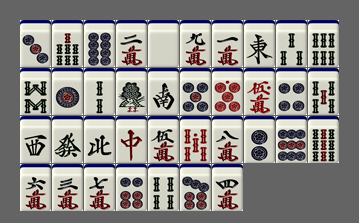0m: (244, 68, 275, 115)
0p: (212, 68, 243, 115)
0s: (180, 116, 211, 163)
1m: (212, 20, 243, 67)
1p: (52, 68, 83, 115)
1s: (116, 68, 147, 115)
1z: (244, 20, 275, 67)
2m: (116, 20, 147, 67)
2p: (244, 116, 275, 163)
2s: (84, 68, 115, 115)
2z: (148, 68, 179, 115)
3m: (52, 164, 83, 211)
3p: (20, 20, 51, 67)
3s: (276, 20, 307, 67)
3z: (20, 116, 51, 163)
4m: (212, 164, 243, 211)
4p: (276, 68, 307, 115)
4s: (148, 164, 179, 211)
4z: (84, 116, 115, 163)
5m: (148, 116, 179, 163)
5p: (180, 68, 211, 115)
5s: (308, 68, 339, 115)
5z: (148, 20, 179, 67)
6m: (20, 164, 51, 211)
6p: (116, 164, 147, 211)
6s: (308, 20, 339, 67)
6z: (52, 116, 83, 163)
7m: (84, 164, 115, 211)
7p: (180, 164, 211, 211)
7s: (52, 20, 83, 67)
7z: (116, 116, 147, 163)
8m: (212, 116, 243, 163)
8p: (84, 20, 115, 67)
8s: (20, 68, 51, 115)
9m: (180, 20, 211, 67)
9p: (276, 116, 307, 163)
9s: (308, 116, 339, 163)
